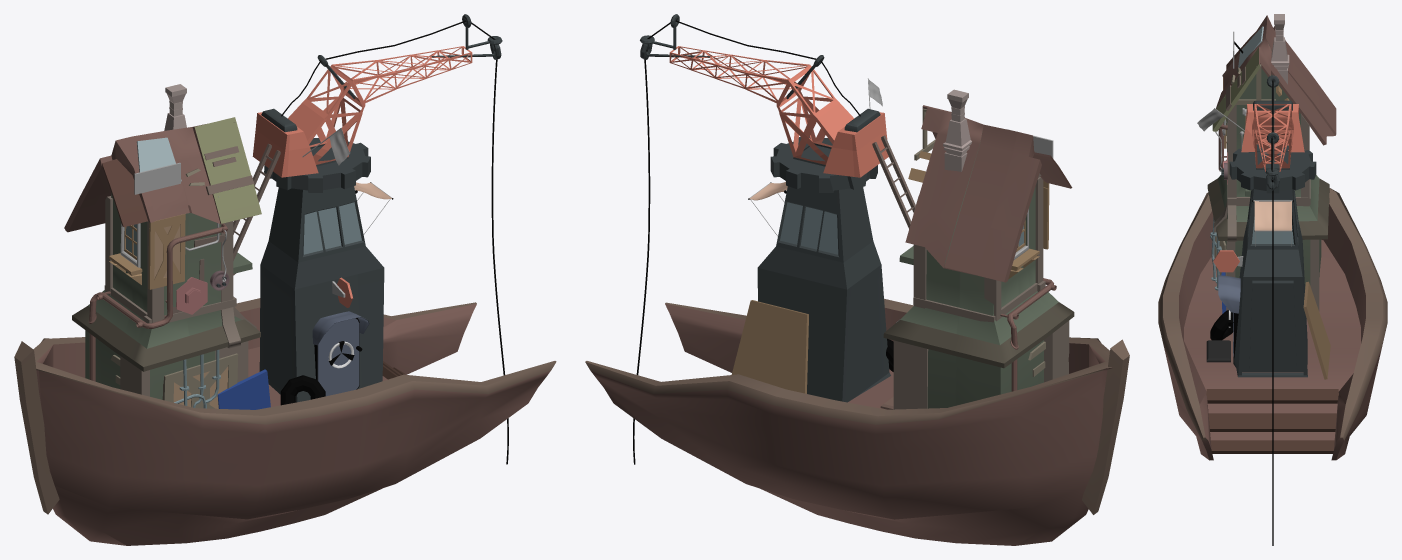
The model's file is Boat_Final.fbx.
3 views of the same model, side by side, from view 1: azimuth 30°, elevation 25°; view 2: azimuth 150°, elevation 25°; view 3: azimuth 270°, elevation 25° (orthographic). The views are drawn at different scales.
Visible parts, largest first — view 1: polySurface488, polySurface473, polySurface353, polySurface419, polySurface446, polySurface377, polySurface443, polySurface461, polySurface401, polySurface390, polySurface360, polySurface398 (+11 smaller); view 2: polySurface488, polySurface353, polySurface473, polySurface388, polySurface419, polySurface377, polySurface479, polySurface371, polySurface455, polySurface452, polySurface396, polySurface385 (+2 smaller); view 3: polySurface488, polySurface473, polySurface353, polySurface377, polySurface388, polySurface485, polySurface371, polySurface359, polySurface474, polySurface385, polySurface479, polySurface447 (+7 smaller).
Boxes of the visible parts, x1,y1,x2,y2 form: polySurface488: (33, 298, 556, 545); polySurface473: (252, 46, 472, 402); polySurface353: (64, 117, 261, 399); polySurface419: (14, 341, 59, 514); polySurface446: (314, 318, 359, 396); polySurface377: (264, 138, 370, 192); polySurface443: (162, 353, 238, 408); polySurface461: (148, 214, 185, 289); polySurface401: (217, 369, 270, 409); polySurface390: (89, 223, 227, 328); polySurface360: (136, 137, 181, 181); polySurface398: (134, 162, 180, 194); polySurface488: (585, 298, 1113, 545); polySurface353: (883, 105, 1074, 408); polySurface473: (669, 46, 890, 402); polySurface388: (731, 300, 808, 393); polySurface419: (1082, 339, 1129, 514); polySurface377: (770, 136, 877, 192); polySurface479: (893, 340, 928, 409); polySurface371: (943, 89, 971, 171); polySurface455: (1044, 321, 1069, 382); polySurface452: (872, 135, 915, 228); polySurface396: (1035, 177, 1043, 283); polySurface385: (633, 59, 650, 464); polySurface488: (1158, 188, 1387, 460); polySurface473: (1233, 104, 1307, 377); polySurface353: (1207, 15, 1336, 289); polySurface377: (1229, 148, 1316, 193); polySurface388: (1303, 281, 1330, 379); polySurface485: (1254, 201, 1291, 246); polySurface371: (1271, 14, 1289, 84); polySurface359: (1227, 105, 1236, 207); polySurface474: (1218, 275, 1240, 313); polySurface385: (1272, 190, 1273, 545); polySurface479: (1310, 239, 1319, 311); polySurface447: (1206, 340, 1230, 362).
Size of the model in its own units: 0.0382 by 0.0336 by 0.0176.
